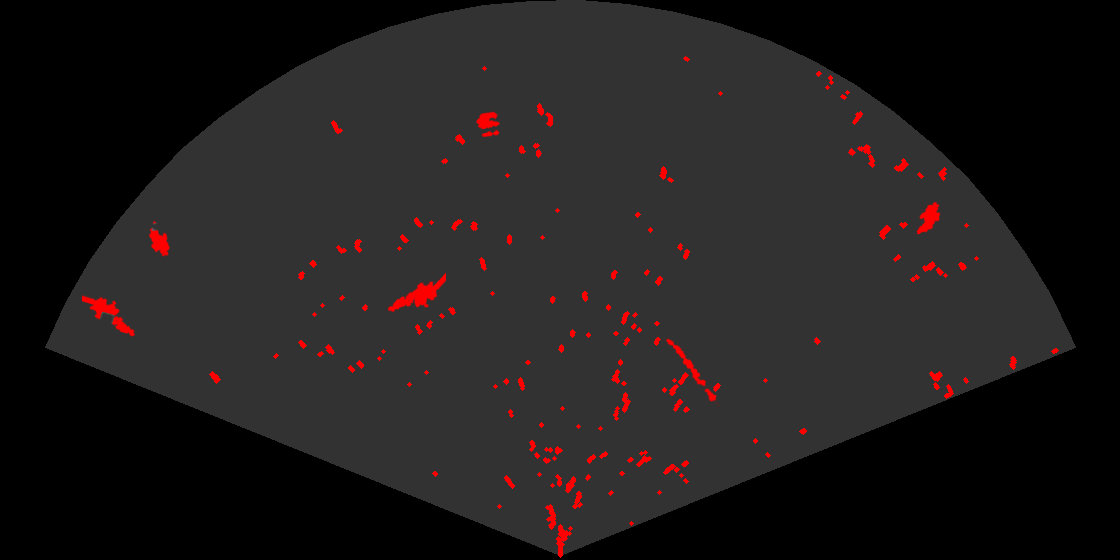AUV: (147, 219, 172, 258), (915, 200, 942, 236)
ball: (475, 110, 502, 139)
chain: (664, 337, 722, 407)
frogman: (386, 271, 446, 314), (82, 294, 137, 338)
